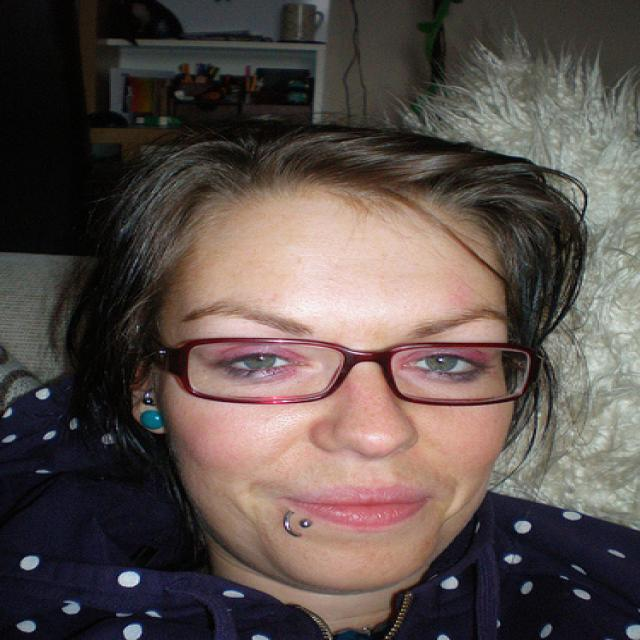person: (1, 120, 639, 639)
